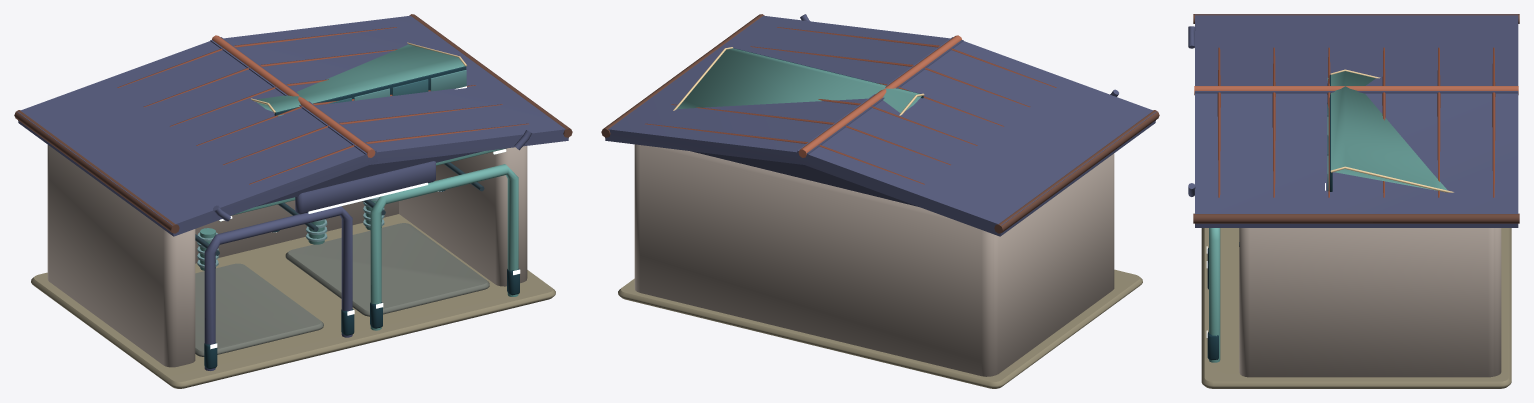
File: japan_wash.glb
3 renders of one model, left to right at view 1: azimuth 30°, elevation 25°; view 2: azimuth 150°, elevation 25°; view 3: azimuth 270°, elevation 25°, orthographic. The views are drawn at different scales.
Visible parts, largest first — view 1: JapanWash; view 2: JapanWash; view 3: JapanWash.
Boxes of the visible parts, left/top/right/bottom form: JapanWash: left=14, top=14, right=572, bottom=388; JapanWash: left=601, top=14, right=1159, bottom=388; JapanWash: left=1188, top=14, right=1519, bottom=388.
Size of the model in its own units: 9.69 by 4.59 by 6.65.
